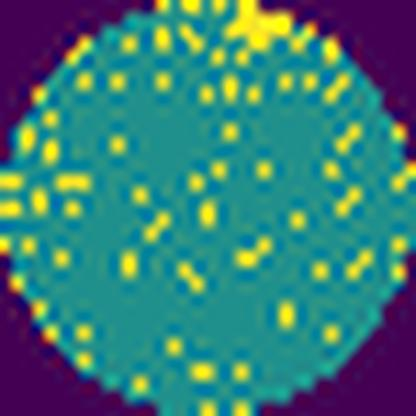Edge-Loc: (222, 0, 297, 57)
